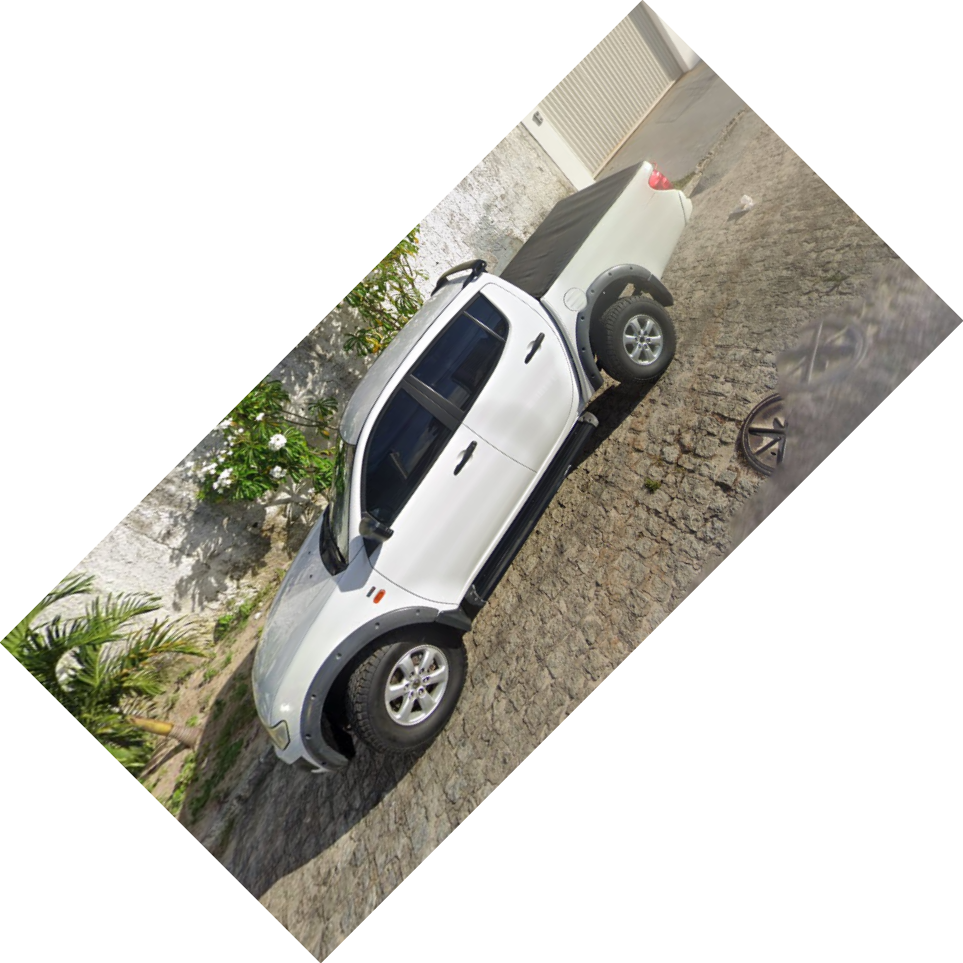car: (247, 157, 696, 780)
